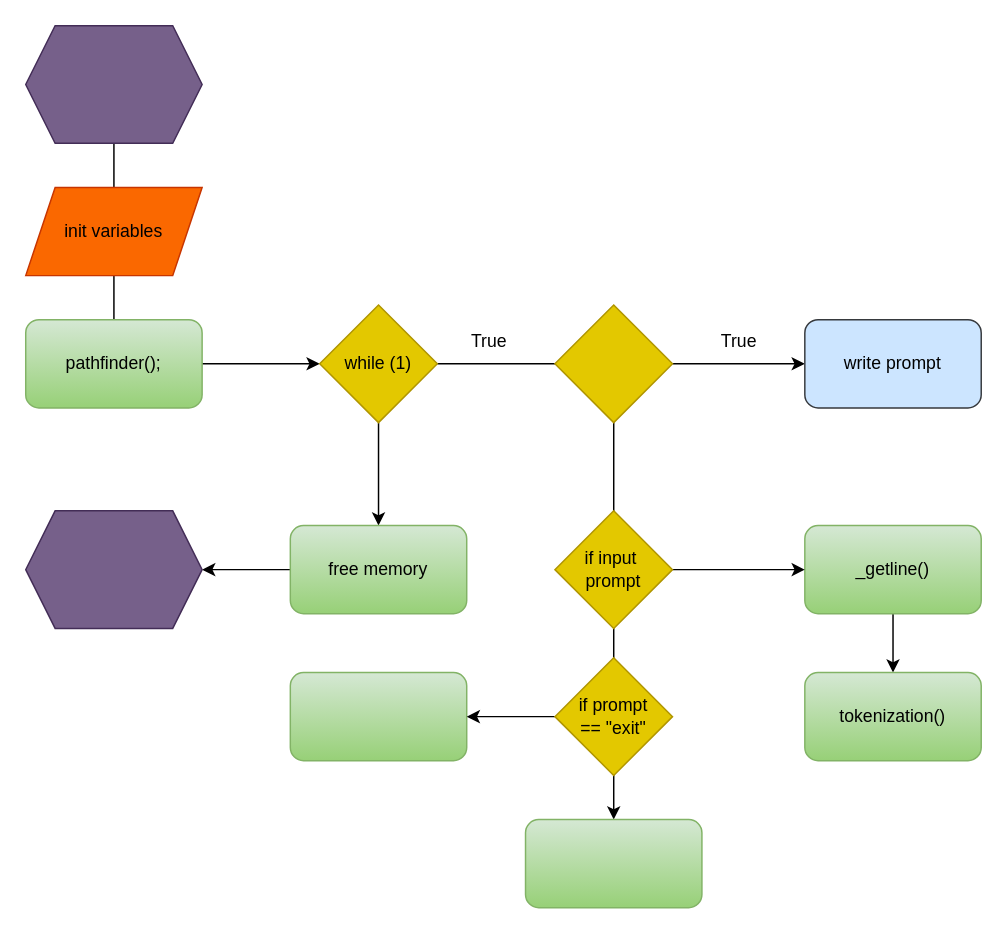
Image size: 1007x933. Some labels were removed from this diagram. Here are the shapes that lost their labels. From the top down, the centre of each, then its label:
pixel 113 83: Start
pixel 613 363: if STDIN_FILENO
pixel 113 568: End
pixel 378 716: _exit()
pixel 613 863: pid_printer()
